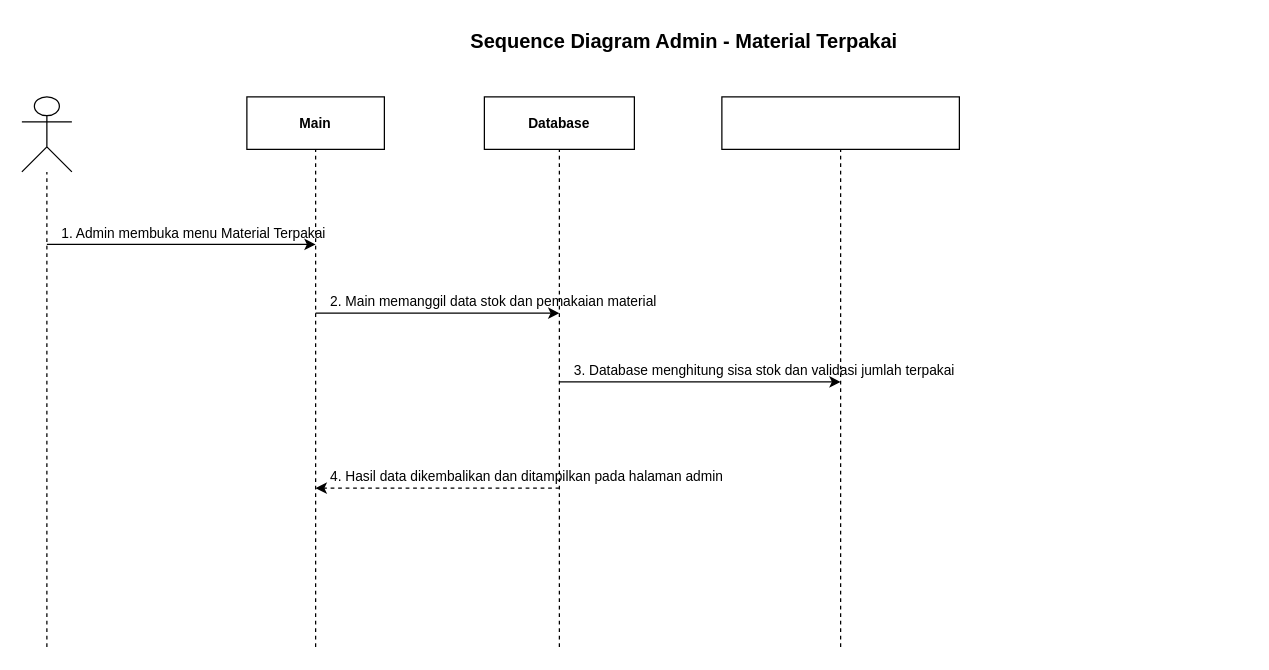
Some shapes in this 1269 by 670 pixel diagram are drawn without their labels. The box of each missing label's shape, as (x1, y1, x2, y2) in pixels:
Admin: (21, 96, 72, 172)
Tabel Material Terpakai: (721, 96, 959, 149)
